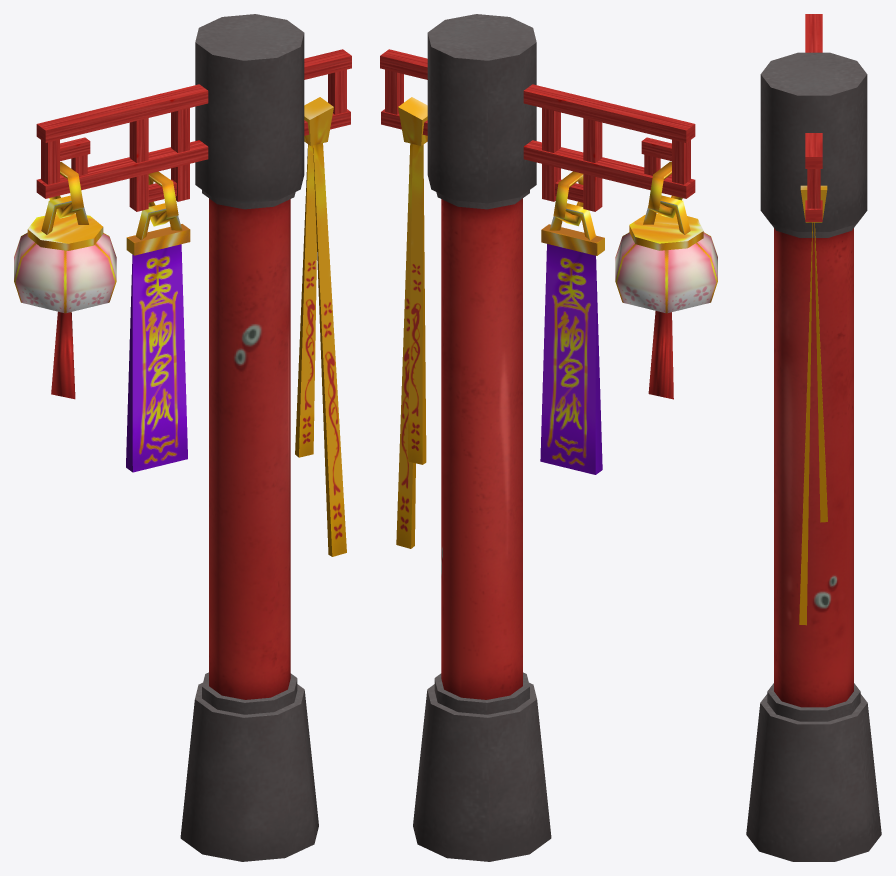
The model's file is hasira.fbx.
3 views of the same model, side by side, from view 1: azimuth 30°, elevation 25°; view 2: azimuth 150°, elevation 25°; view 3: azimuth 270°, elevation 25° (orthographic). The views are drawn at different scales.
Parts seen in each view (by area): view 1: hasira; view 2: hasira; view 3: hasira.
Part boxes in pixels (<box>): hasira: <box>14,14,351,861</box>; hasira: <box>380,14,717,861</box>; hasira: <box>746,14,881,861</box>.
Size of the model in its own units: 27.64 by 62.98 by 10.18.
Materials: 1 (1 with a texture image).
